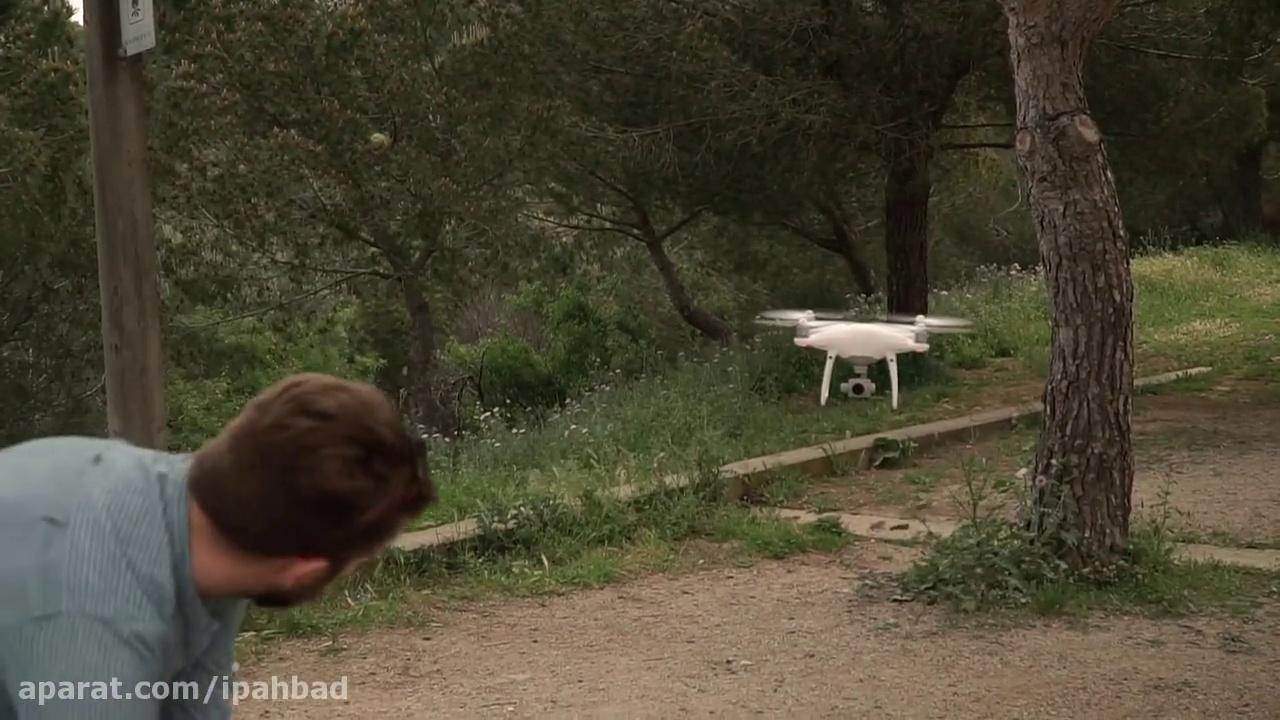drone: (751, 303, 976, 407)
